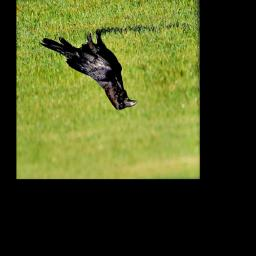Crow: (39, 27, 139, 112)
